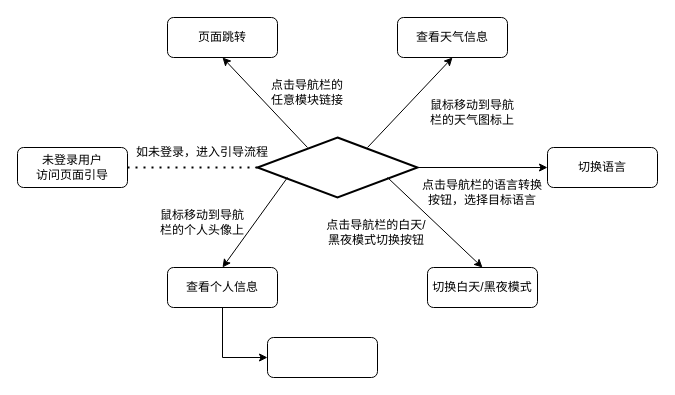
Image size: 675x395. Some labels were removed from this diagram. Each missing label, with the box of its shape:
个人信息页面跳转: (266, 336, 378, 378)
导航栏基本操作: (256, 136, 418, 198)
